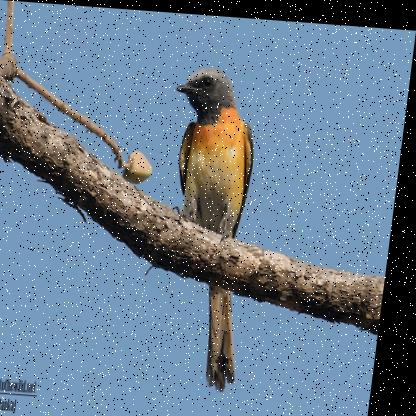Burung: (148, 61, 274, 387)
